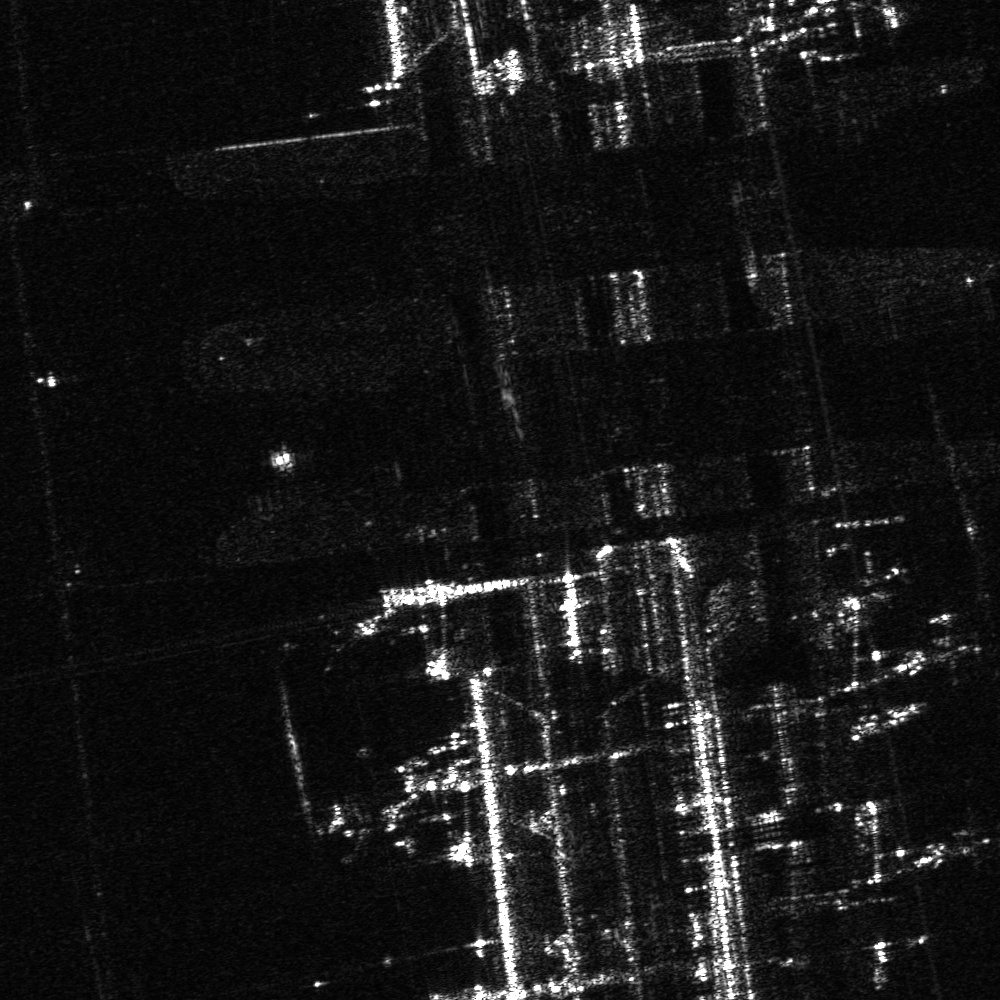Boeing737: (853, 549, 909, 609)
